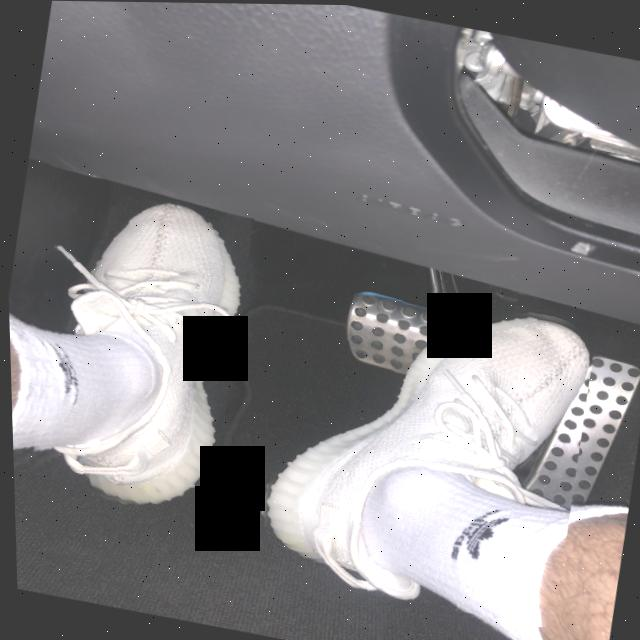shoe: (237, 259, 603, 628), (4, 181, 259, 522)
